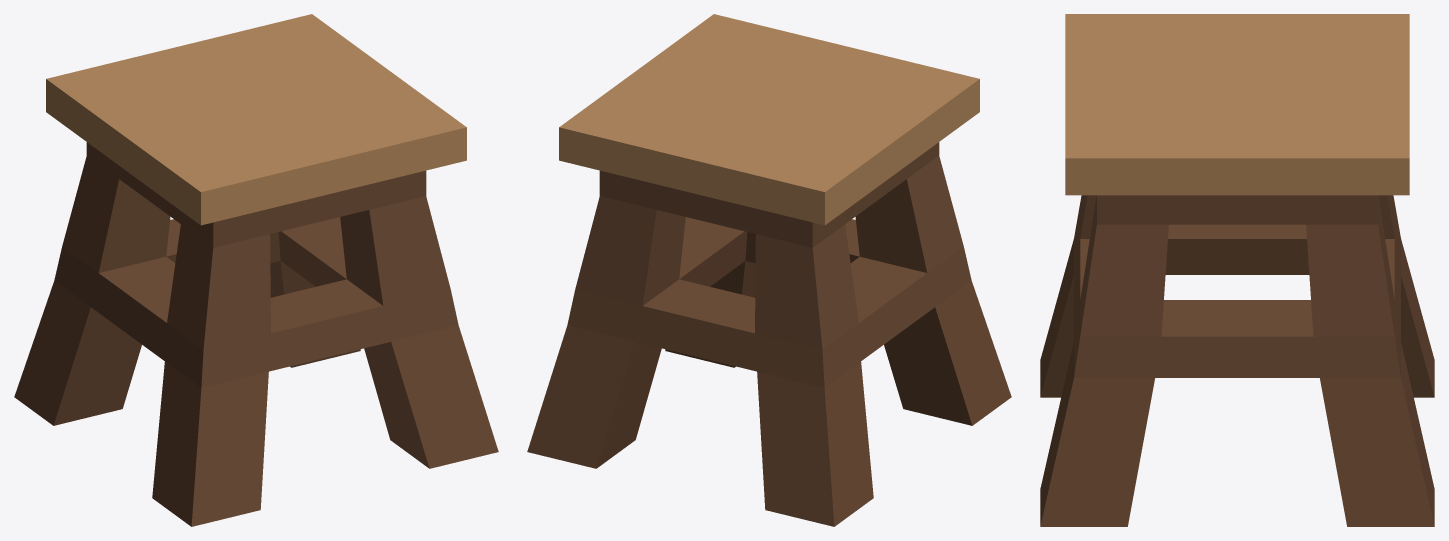
The model's file is qt-stool.glb.
The picture shows the model from 3 angles, left to right: view 1: azimuth 30°, elevation 25°; view 2: azimuth 150°, elevation 25°; view 3: azimuth 270°, elevation 25°; orthographic projection. The views are drawn at different scales.
Parts seen in each view (by area): view 1: Stool_Cube.015; view 2: Stool_Cube.015; view 3: Stool_Cube.015.
Part boxes in pixels (left/top/right/bottom): Stool_Cube.015: left=14, top=14, right=498, bottom=526; Stool_Cube.015: left=527, top=14, right=1011, bottom=526; Stool_Cube.015: left=1040, top=14, right=1434, bottom=526.
Bounding box in the file's own units: 1 × 1 × 1.
